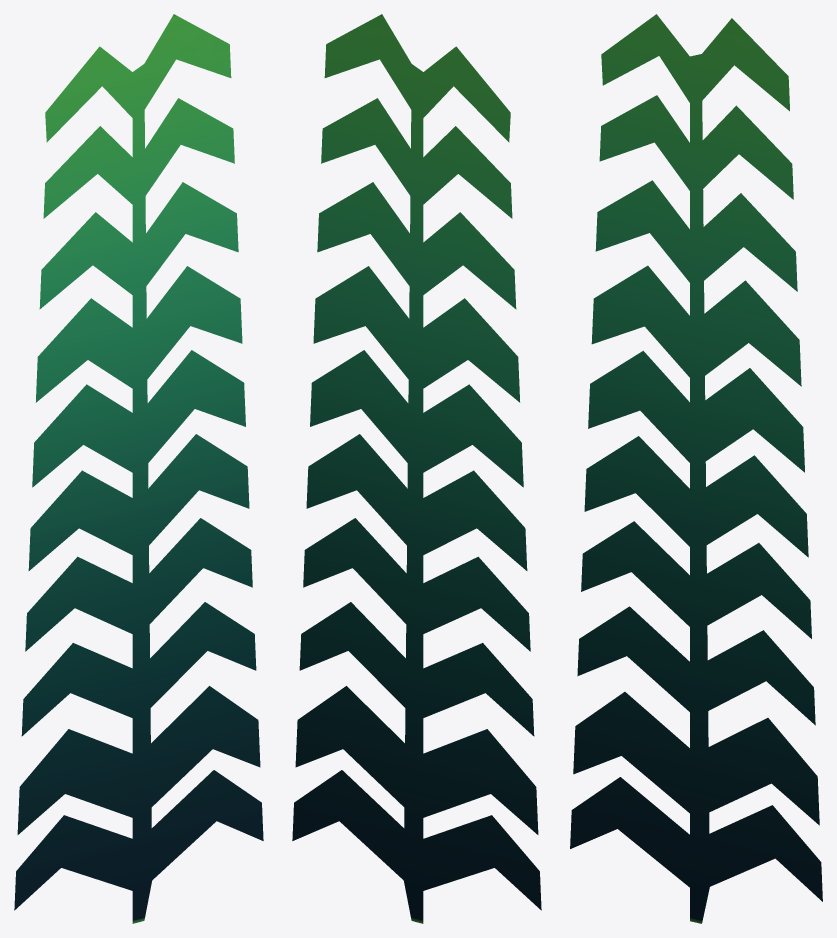
File: kelp2.fbx
The picture shows the model from 3 angles, left to right: view 1: azimuth 30°, elevation 25°; view 2: azimuth 150°, elevation 25°; view 3: azimuth 330°, elevation 25°; orthographic projection.
Visible parts, largest first — view 1: kelp2; view 2: kelp2; view 3: kelp2.
Boxes of the visible parts, left/top/right/bottom form: kelp2: left=14, top=14, right=263, bottom=923; kelp2: left=292, top=14, right=541, bottom=923; kelp2: left=570, top=14, right=822, bottom=923.
Bounding box in the file's own units: 0.00811 × 0.028 × 2.04e-08.
1 material, 1 textured.
